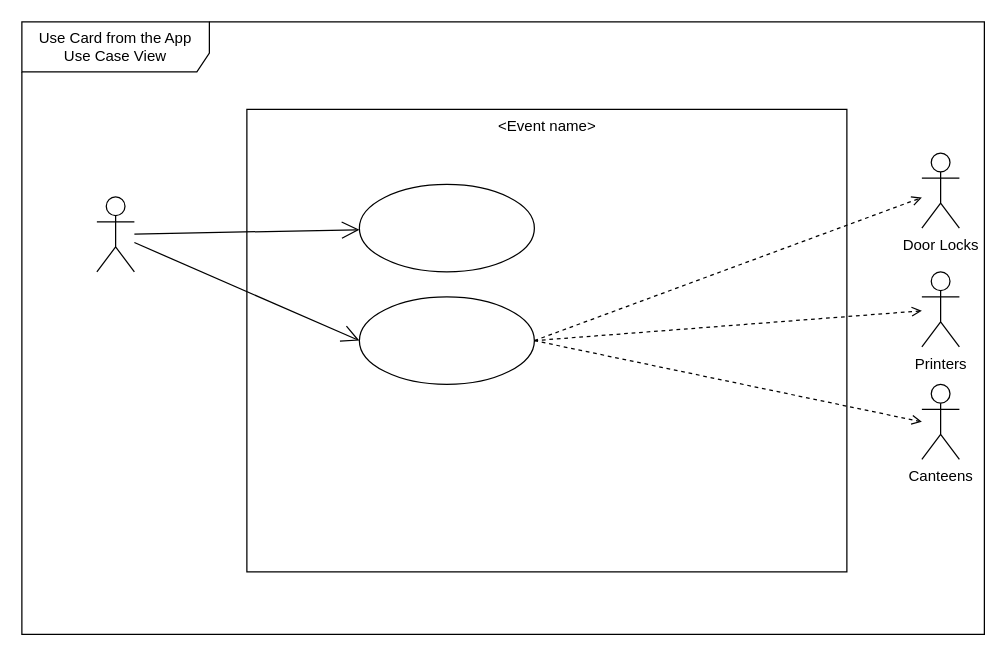
Some shapes in this 1006 by 656 pixel diagram are drawn without their labels. The box of each missing label's shape, as (x1, y1, x2, y2) in pixels:
Access university services: (358, 296, 534, 384)
Student: (96, 196, 134, 272)
View card data in the app: (358, 183, 534, 272)
